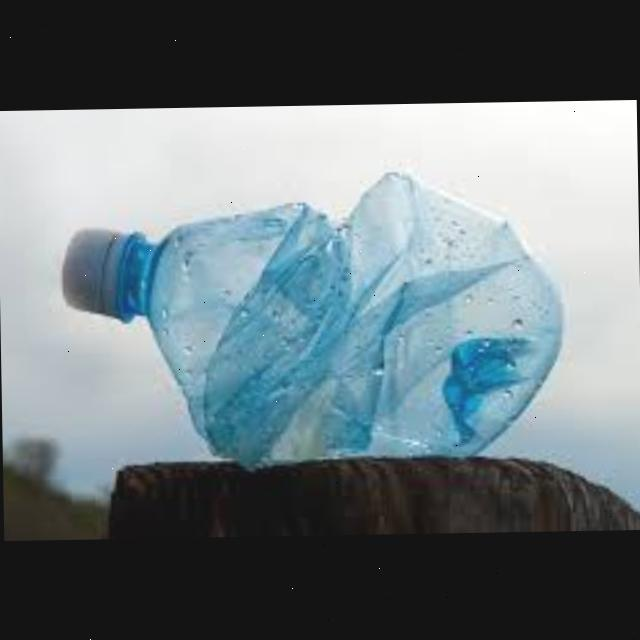trash: (51, 167, 570, 478)
